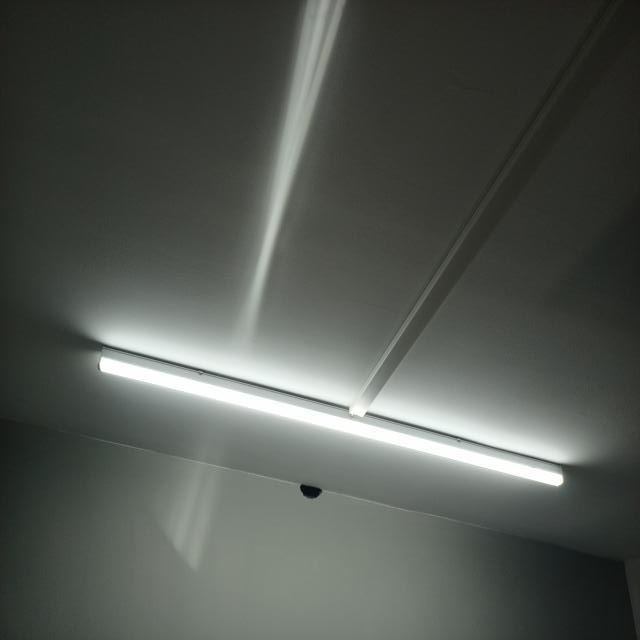fluorescent tube: (83, 330, 573, 502)
